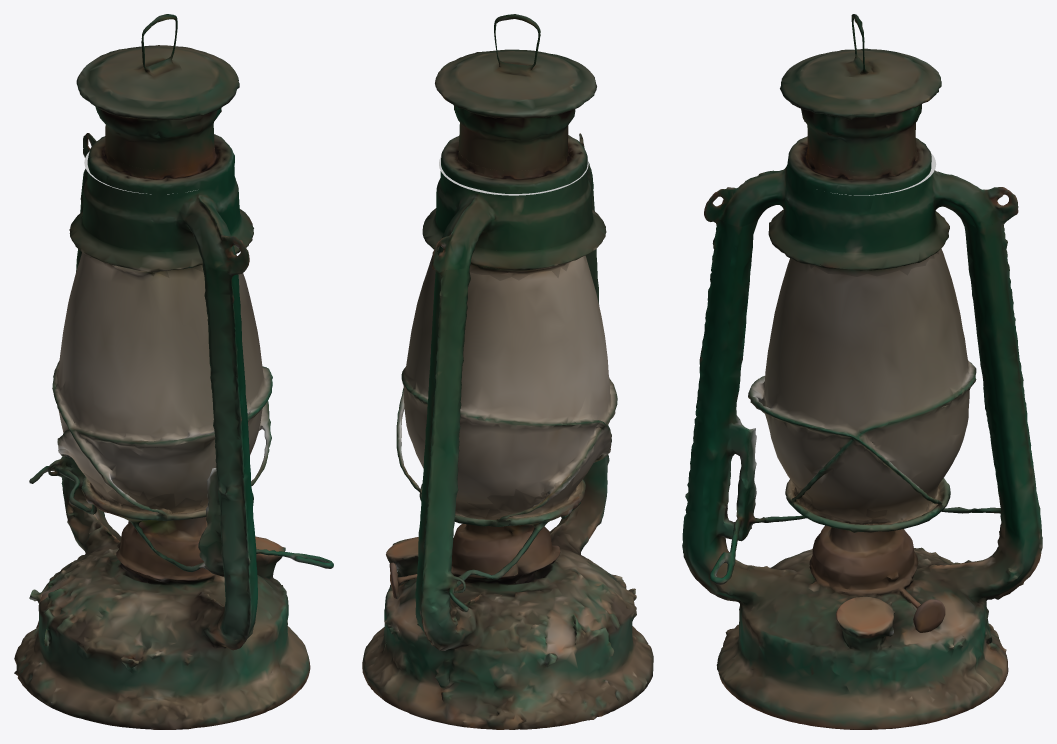
File: Crank Lantern.fbx
3 renders of one model, left to right at view 1: azimuth 30°, elevation 25°; view 2: azimuth 150°, elevation 25°; view 3: azimuth 270°, elevation 25°, orthographic.
Parts seen in each view (by area): view 1: Body, Cap, Collar; view 2: Body, Cap, Collar; view 3: Body, Collar, Cap.
Boxes of the visible parts, <box> form: Body: <box>14,177,333,729</box>; Cap: <box>76,14,239,169</box>; Collar: <box>82,133,249,273</box>; Body: <box>362,178,653,729</box>; Cap: <box>435,14,596,171</box>; Collar: <box>432,133,592,272</box>; Body: <box>682,209,1042,729</box>; Collar: <box>704,136,1018,252</box>; Cap: <box>780,14,941,171</box>.
Bounding box in the file's own units: 0.1499 × 0.3705 × 0.1863.
